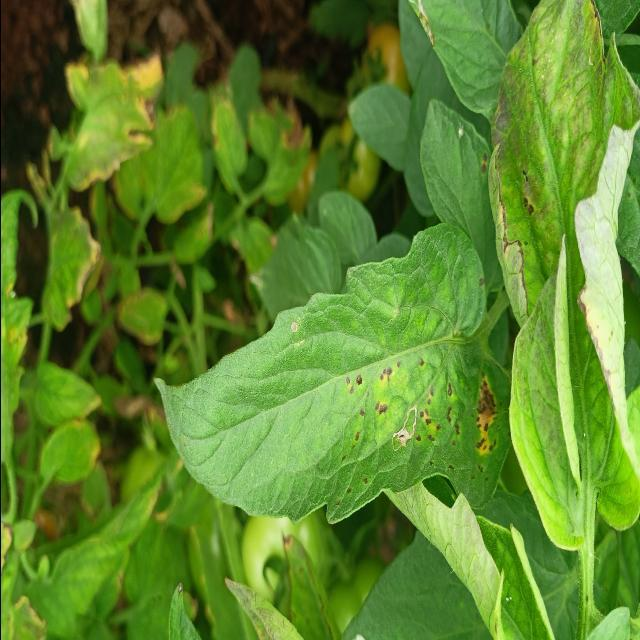Tomato mosaic virus leaf: (151, 230, 515, 534)
